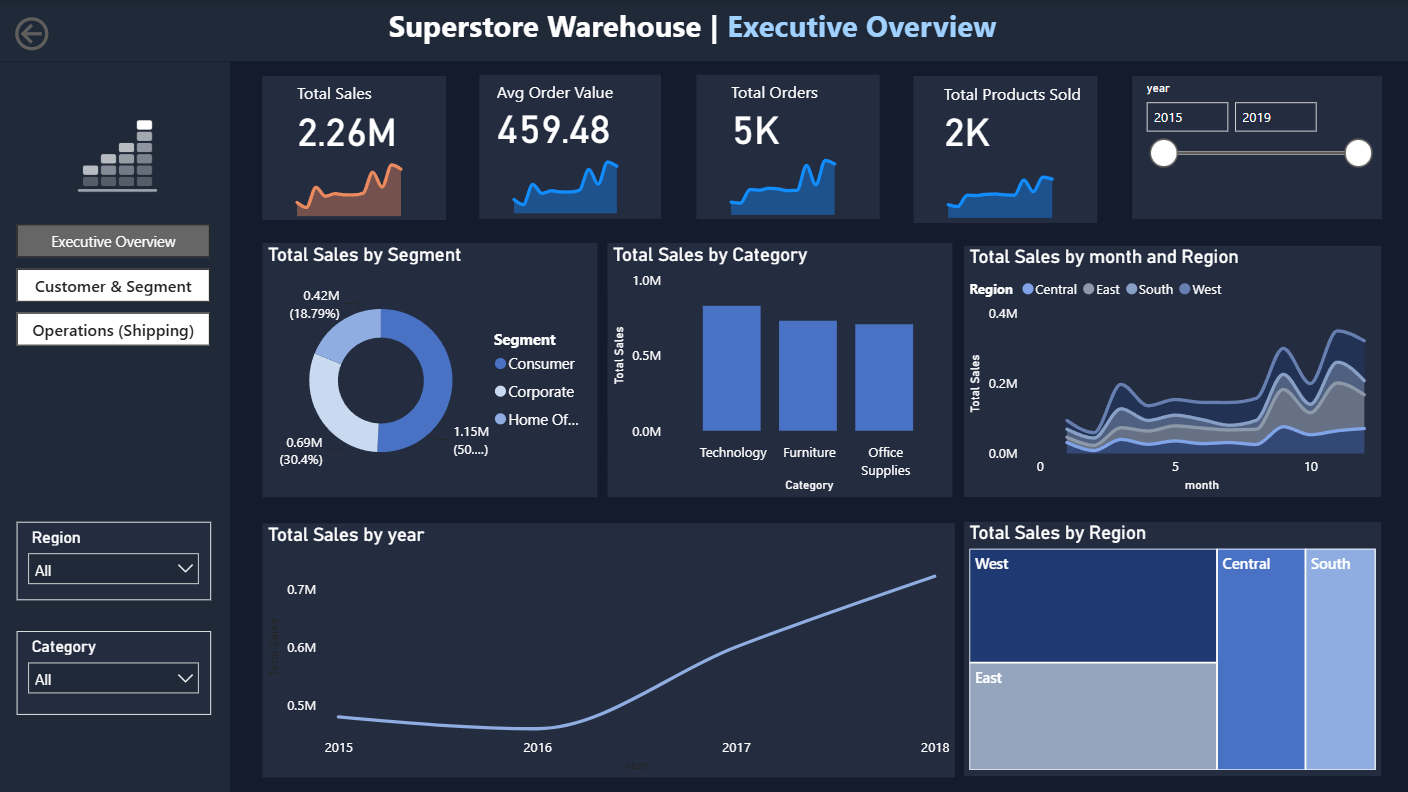

The dashboard page shown, as its layout file describes it:
{"tool":"powerbi","page":{"name":"Executive Overview","canvas":[1280,720],"ordinal":0},"visuals":[{"type":"shape","box":[0,51.1,210,668.3],"z":0},{"type":"shape","box":[436.3,67.8,164.5,130.3],"z":0,"group":"g5"},{"type":"shape","box":[632.7,68.1,165.4,130.6],"z":0,"group":"g3"},{"type":"shape","box":[829.2,68.2,166,133.1],"z":0,"group":"g4"},{"type":"shape","box":[239,69.3,166,130.3],"z":0,"group":"g2"},{"type":"shape","box":[0,0,1287.1,55.7],"z":1000,"group":"g1"},{"type":"group","id":"g1","title":"Group 3","box":[0,0,1287.1,55.7],"z":1000},{"type":"cardVisual","fields":{"Data":["fact_sales.Total Products Sold"]},"box":[843.3,63.6,146.2,86.6],"z":1000,"group":"g4"},{"type":"cardVisual","fields":{"Data":["fact_sales.Total Orders"]},"box":[651.1,64.9,129.3,80.4],"z":1000,"group":"g3"},{"type":"cardVisual","fields":{"Data":["fact_sales.Avg Order Value"]},"box":[438.7,65.3,160.1,79.8],"z":1000,"group":"g5"},{"type":"cardVisual","fields":{"Data":["fact_sales.Total Sales"]},"box":[257.5,66.1,129.8,80.2],"z":1000,"group":"g2"},{"type":"textbox","box":[348.7,0,589.2,54],"z":2000,"group":"g1"},{"type":"areaChart","fields":{"Category":["dim_date.month"],"Y":["fact_sales.Total Sales"]},"box":[444.6,126.8,157,73],"z":2000,"group":"g5"},{"type":"areaChart","fields":{"Category":["dim_date.month"],"Y":["fact_sales.Total Orders"]},"box":[641.1,127.3,157.9,73.2],"z":2000,"group":"g3"},{"type":"areaChart","fields":{"Category":["dim_date.month"],"Y":["fact_sales.Total Sales"]},"box":[247.4,128.4,158.5,73],"z":2000,"group":"g2"},{"type":"areaChart","fields":{"Category":["dim_date.month"],"Y":["fact_sales.Total Products Sold"]},"box":[837.6,128.5,158.5,74.6],"z":2000,"group":"g4"},{"type":"lineChart","fields":{"Category":["dim_date.year"],"Y":["fact_sales.Total Sales"]},"box":[239,473.5,626.8,230],"z":2000},{"type":"columnChart","fields":{"Category":["dim_product.Category"],"Y":["fact_sales.Total Sales"]},"box":[552.4,220.1,312.3,230],"z":3000},{"type":"group","id":"g2","title":"Group 2","box":[239,66.1,166.8,136.8],"z":4000},{"type":"group","id":"g3","title":"Group 2","box":[632.7,64.9,166,136],"z":5000},{"type":"slicer","fields":{"Values":["dim_location.Region"]},"box":[16.9,472.5,175.7,71.2],"z":6000},{"type":"slicer","fields":{"Values":["dim_date.year"]},"box":[1026.5,69.6,225.7,129.2],"z":7000},{"type":"group","id":"g4","title":"Group 2","box":[829.2,63.6,166.9,139.5],"z":8000},{"type":"pageNavigator","box":[17,203,175.7,110.6],"z":9000},{"type":"slicer","fields":{"Values":["dim_product.Category"]},"box":[16.9,571.4,175.7,76],"z":10000},{"type":"group","id":"g5","title":"Group 2","box":[436.3,65.3,166,136],"z":11000},{"type":"actionButton","box":[10,10,100,40],"z":12000},{"type":"treemap","fields":{"Group":["dim_location.Region"],"Values":["fact_sales.Total Sales"]},"box":[874.6,472.8,377.7,230],"z":13000},{"type":"stackedAreaChart","fields":{"Category":["dim_date.month"],"Series":["dim_location.Region"],"Y":["fact_sales.Total Sales"]},"box":[874.6,222.9,377.7,227.2],"z":14000},{"type":"donutChart","fields":{"Category":["dim_customer.Segment"],"Y":["fact_sales.Total Sales"]},"box":[239,219.5,303.6,230],"z":15000},{"type":"image","box":[29.9,71.6,149.7,128.9],"z":16000}]}

Visuals, with their boxes in screenshot pixels (x1, y1, x2, y2), scaled from the page's 1280x720 canvas onto the 1408x792 screenshot:
shape: x1=0, y1=56, x2=231, y2=791
shape: x1=480, y1=75, x2=661, y2=218
shape: x1=696, y1=75, x2=878, y2=219
shape: x1=912, y1=75, x2=1095, y2=221
shape: x1=263, y1=76, x2=446, y2=220
shape: x1=0, y1=0, x2=1407, y2=61
"Group 3" group: x1=0, y1=0, x2=1407, y2=61
cardVisual - fact_sales.Total Products Sold: x1=928, y1=70, x2=1088, y2=165
cardVisual - fact_sales.Total Orders: x1=716, y1=71, x2=858, y2=160
cardVisual - fact_sales.Avg Order Value: x1=483, y1=72, x2=659, y2=160
cardVisual - fact_sales.Total Sales: x1=283, y1=73, x2=426, y2=161
textbox: x1=384, y1=0, x2=1032, y2=59
areaChart - dim_date.month x fact_sales.Total Sales: x1=489, y1=139, x2=662, y2=220
areaChart - dim_date.month x fact_sales.Total Orders: x1=705, y1=140, x2=879, y2=221
areaChart - dim_date.month x fact_sales.Total Sales: x1=272, y1=141, x2=446, y2=222
areaChart - dim_date.month x fact_sales.Total Products Sold: x1=921, y1=141, x2=1096, y2=223
lineChart - dim_date.year x fact_sales.Total Sales: x1=263, y1=521, x2=952, y2=774
columnChart - dim_product.Category x fact_sales.Total Sales: x1=608, y1=242, x2=951, y2=495
"Group 2" group: x1=263, y1=73, x2=446, y2=223
"Group 2" group: x1=696, y1=71, x2=879, y2=221
slicer - dim_location.Region: x1=19, y1=520, x2=212, y2=598
slicer - dim_date.year: x1=1129, y1=77, x2=1377, y2=219
"Group 2" group: x1=912, y1=70, x2=1096, y2=223
pageNavigator: x1=19, y1=223, x2=212, y2=345
slicer - dim_product.Category: x1=19, y1=629, x2=212, y2=712
"Group 2" group: x1=480, y1=72, x2=663, y2=221
actionButton: x1=11, y1=11, x2=121, y2=55
treemap - dim_location.Region x fact_sales.Total Sales: x1=962, y1=520, x2=1378, y2=773
stackedAreaChart - dim_date.month x dim_location.Region: x1=962, y1=245, x2=1378, y2=495
donutChart - dim_customer.Segment x fact_sales.Total Sales: x1=263, y1=241, x2=597, y2=494
image: x1=33, y1=79, x2=198, y2=221
